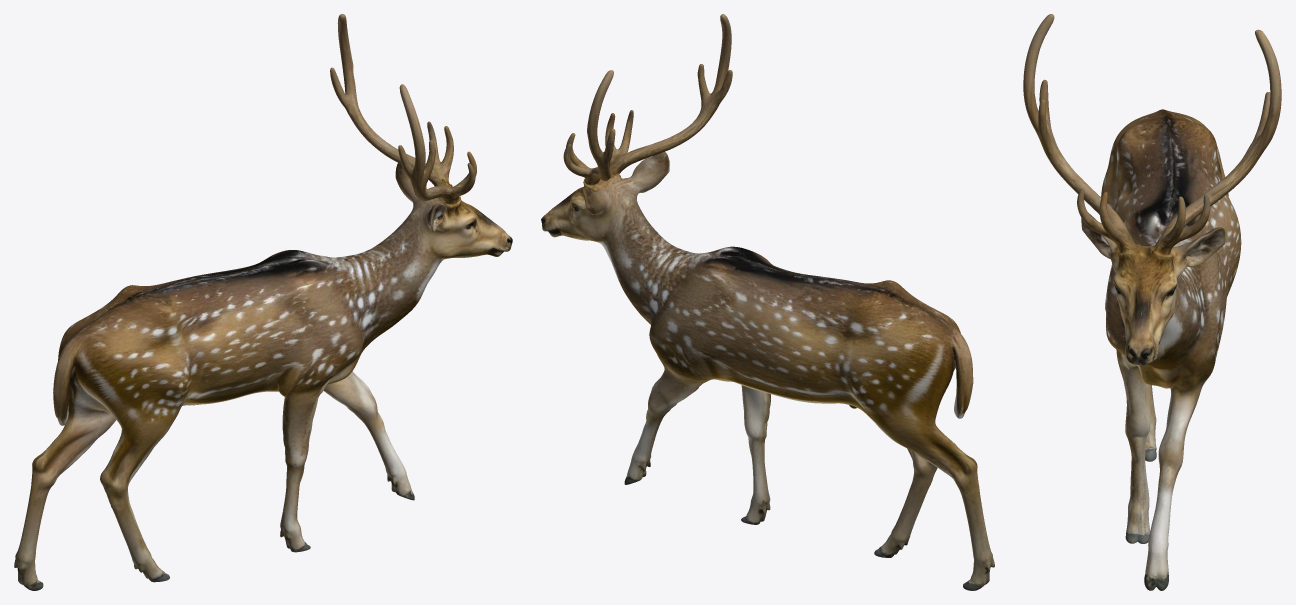
File: golden_deer.glb
3 renders of one model, left to right at view 1: azimuth 30°, elevation 25°; view 2: azimuth 150°, elevation 25°; view 3: azimuth 270°, elevation 25°, orthographic. The views are drawn at different scales.
Parts seen in each view (by area): view 1: node_0; view 2: node_0; view 3: node_0.
Part boxes in pixels (<box>): node_0: <box>14,14,512,590</box>; node_0: <box>541,14,994,590</box>; node_0: <box>1023,14,1281,590</box>.
Bounding box in the file's own units: 0.9007 × 0.8562 × 0.3554.
1 material, 1 textured.
